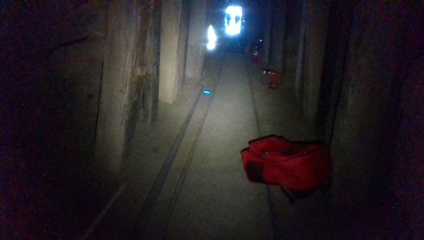backpack: (238, 134, 330, 196)
drill: (261, 67, 278, 91)
fire_extinguisher: (249, 43, 259, 64)
